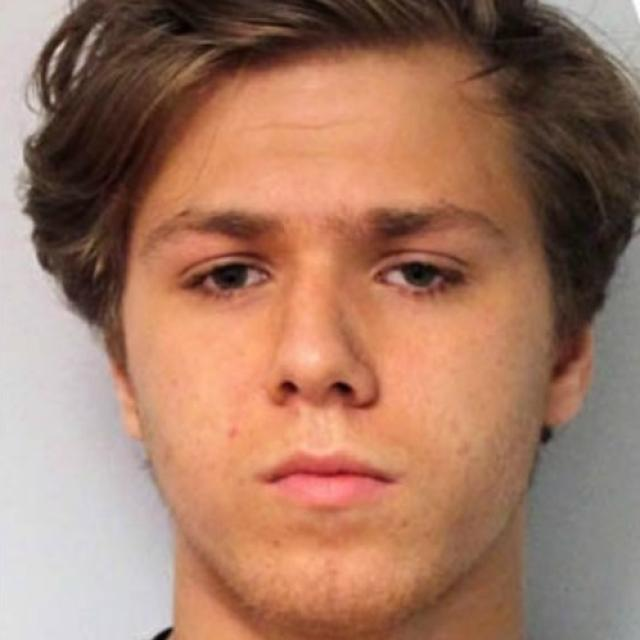Depress: (114, 40, 559, 635)
